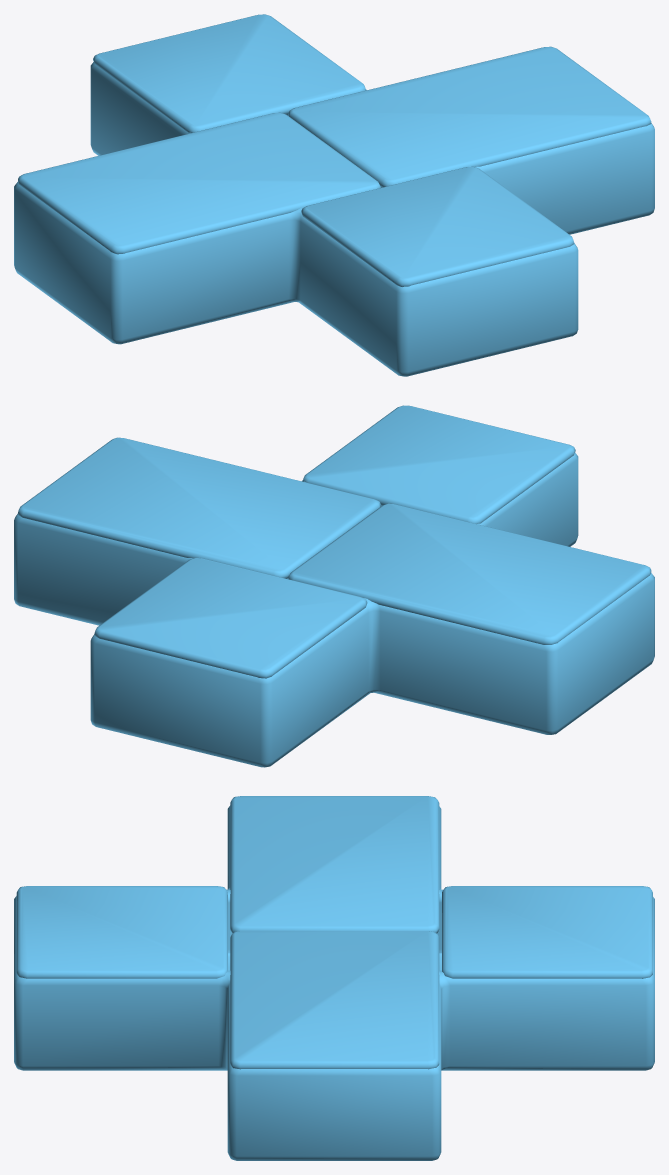
The model's file is Block-X-Blue.fbx.
3 views of the same model, one above another, from view 1: azimuth 30°, elevation 25°; view 2: azimuth 150°, elevation 25°; view 3: azimuth 270°, elevation 25° (orthographic). The views are drawn at different scales.
Parts seen in each view (by area): view 1: Cube.034, Block-X-Blue; view 2: Cube.034, Block-X-Blue; view 3: Cube.034, Block-X-Blue.
Boxes of the visible parts, x1,y1,x2,y2 form: Cube.034: [18, 14, 651, 286]; Block-X-Blue: [14, 62, 654, 376]; Cube.034: [18, 405, 651, 678]; Block-X-Blue: [14, 452, 654, 767]; Cube.034: [16, 796, 652, 1069]; Block-X-Blue: [14, 805, 654, 1160].
Size of the model in its own units: 300 by 51.89 by 300.
